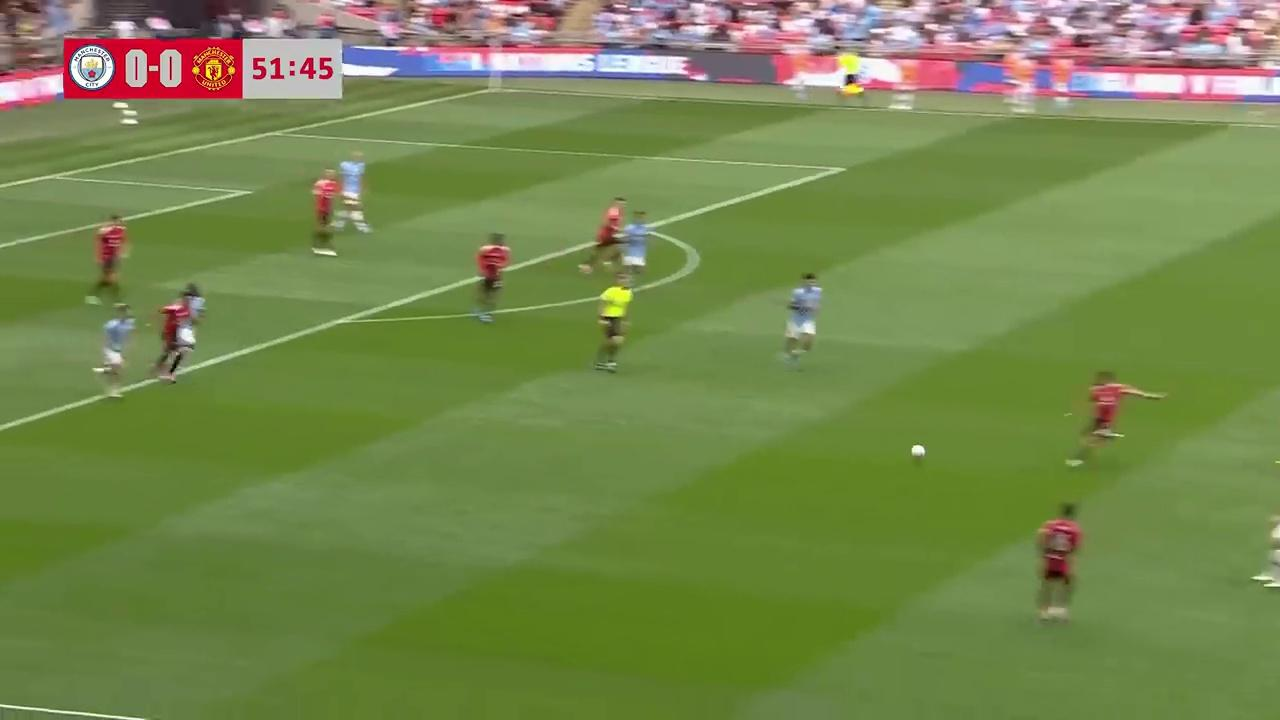ball: (909, 439, 928, 460)
player: (1065, 372, 1174, 469), (1034, 502, 1084, 625), (91, 303, 139, 392), (781, 271, 823, 364), (150, 283, 188, 383), (579, 196, 626, 274), (89, 214, 130, 302), (474, 235, 511, 322), (310, 170, 347, 256), (1263, 436, 1280, 595), (339, 153, 371, 233), (619, 211, 656, 275), (176, 283, 203, 370)
referee: (590, 274, 632, 372), (837, 50, 868, 108)
